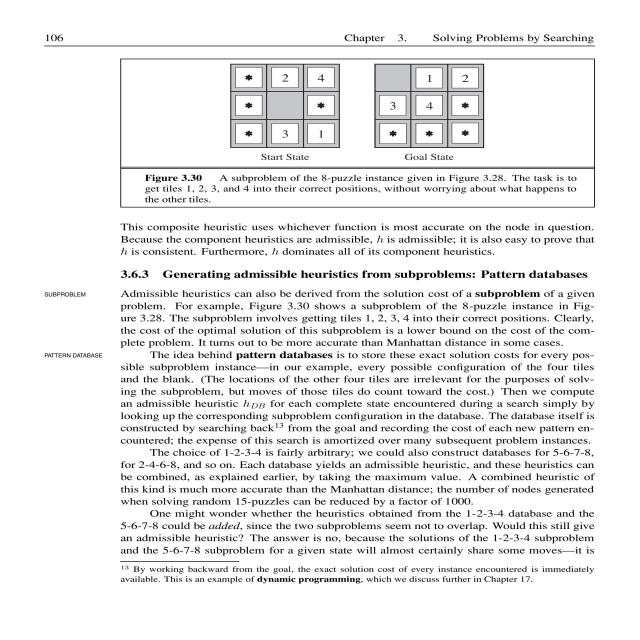diagram: (115, 56, 636, 207)
